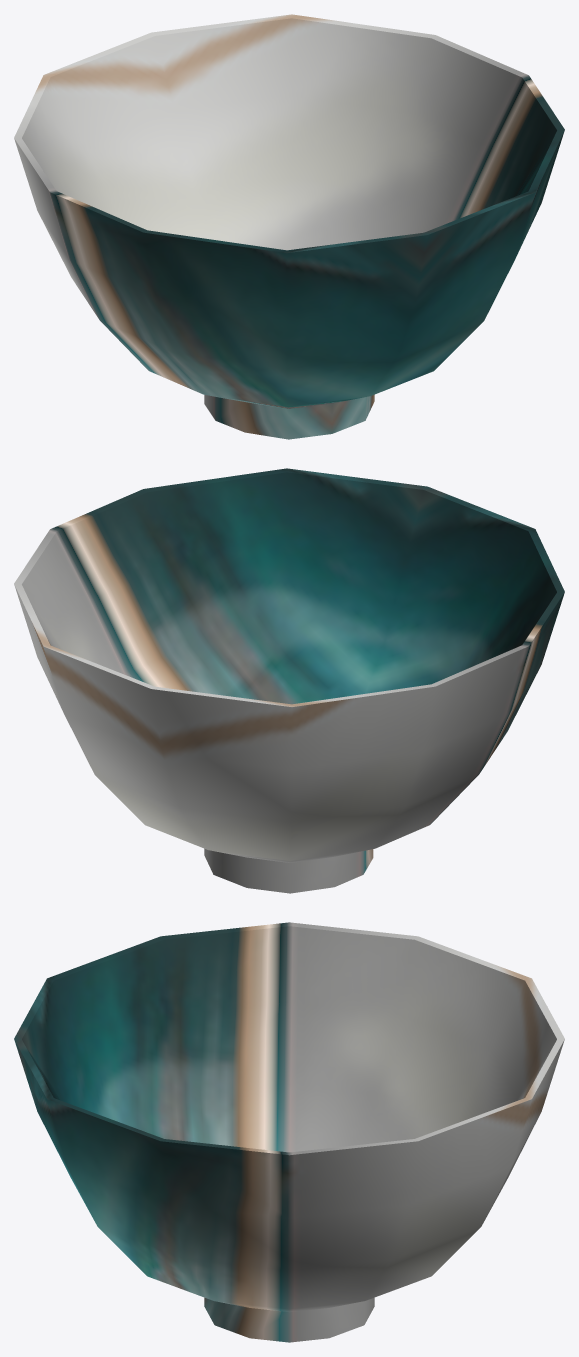
File: WuZhengDiaoChaKe_01_wan_01.FBX
3 renders of one model, top to bottom at view 1: azimuth 30°, elevation 25°; view 2: azimuth 150°, elevation 25°; view 3: azimuth 270°, elevation 25°, orthographic.
Visible parts, largest first — view 1: WuZhengDiaoChaKe_01_wan_01; view 2: WuZhengDiaoChaKe_01_wan_01; view 3: WuZhengDiaoChaKe_01_wan_01.
Boxes of the visible parts, bbox=[...] form: WuZhengDiaoChaKe_01_wan_01: bbox=[14, 14, 564, 439]; WuZhengDiaoChaKe_01_wan_01: bbox=[14, 468, 564, 893]; WuZhengDiaoChaKe_01_wan_01: bbox=[14, 922, 564, 1342].
Bounding box in the file's own units: 110 × 58.87 × 110.
